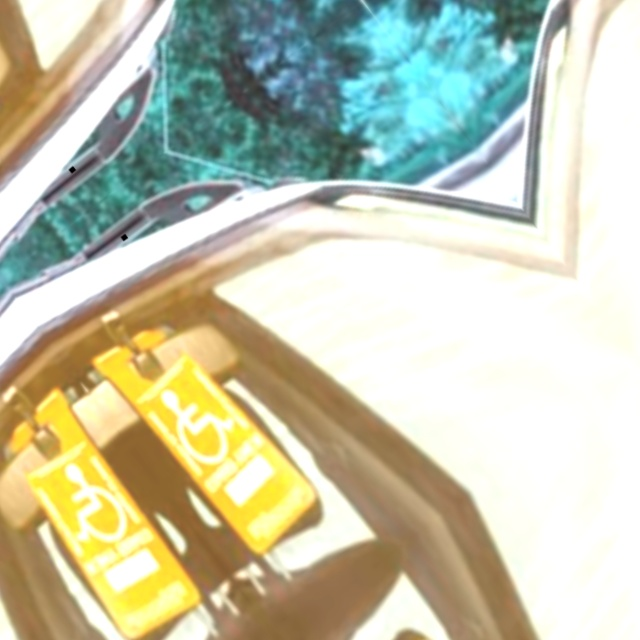ISA: (34, 450, 142, 565), (145, 365, 253, 480)
